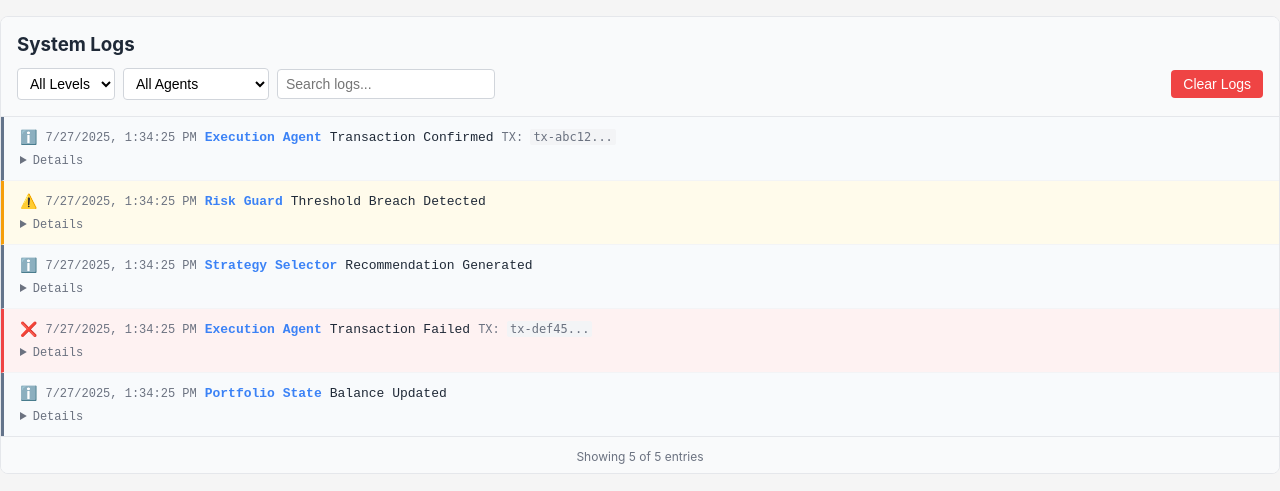
Test: LogDisplay › filters logs by level
The image size is (1280, 491).
Select "Error" in the dropdown named "Filter by log level" at (66, 84), box [17,68,115,100]
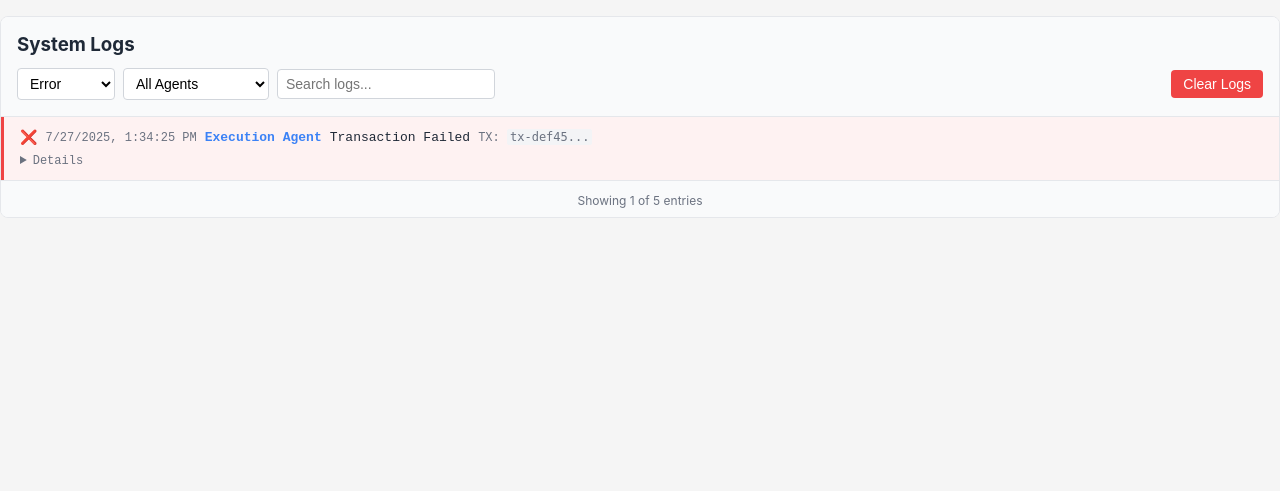
Expected: the text "Transaction Failed" is shown, [330,130,470,145]
Expected: the text "Transaction Confirmed" is gone
Expected: the text "Threshold Breach Detected" is gone
